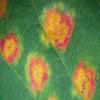Apple rust leaf: (0, 1, 98, 99)
